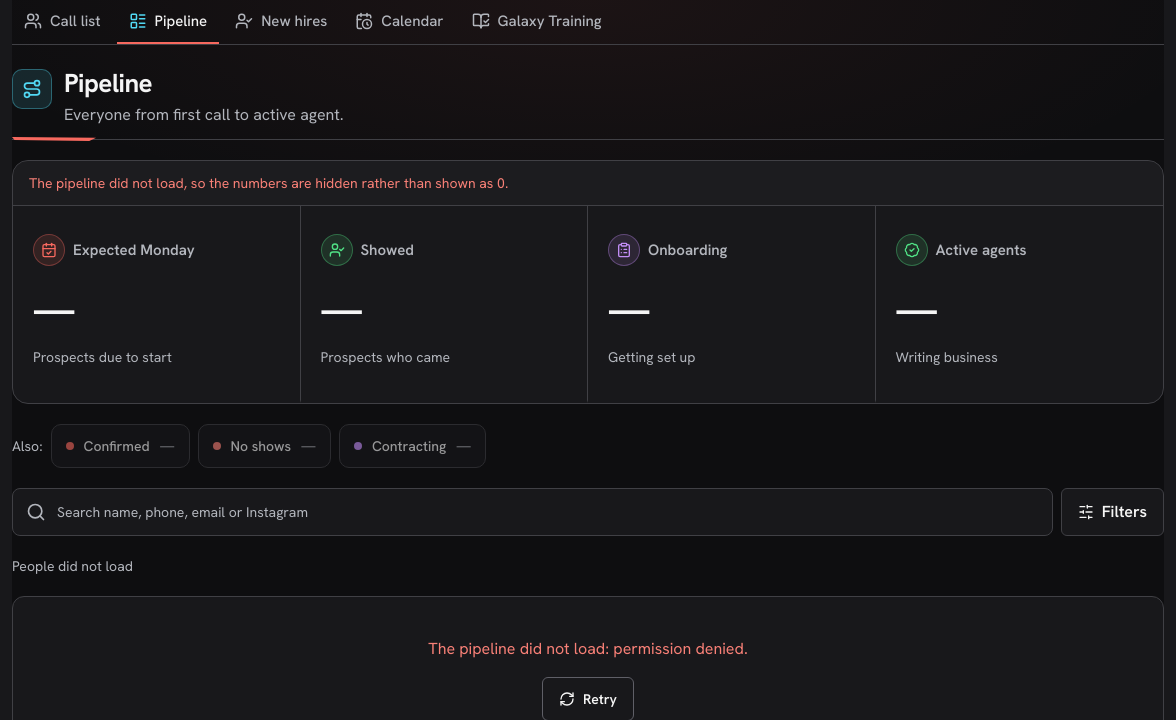
Recruiting Pipeline › shows dashes, a reason and Retry when the load fails, never zeros
Expected: the text "The pipeline did not load: permission denied." is shown, [428,638,748,659]
Expected: the button "Confirmed —" is shown, [50,424,190,468]
Click the button "Retry".
click(588, 699)  # box [542,677,634,719]
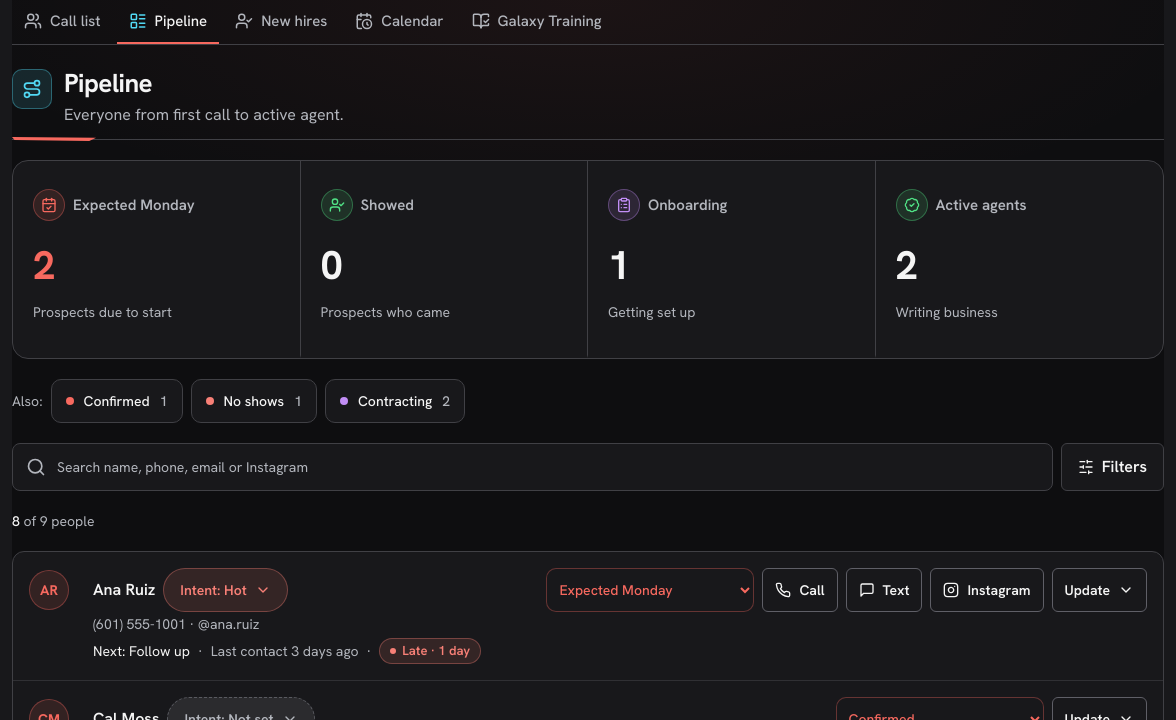
Now the text "Ana Ruiz" is shown, box [93,578,155,602]
Now the text "People did not load" reads "8 of 9 people", box [12,511,95,531]
